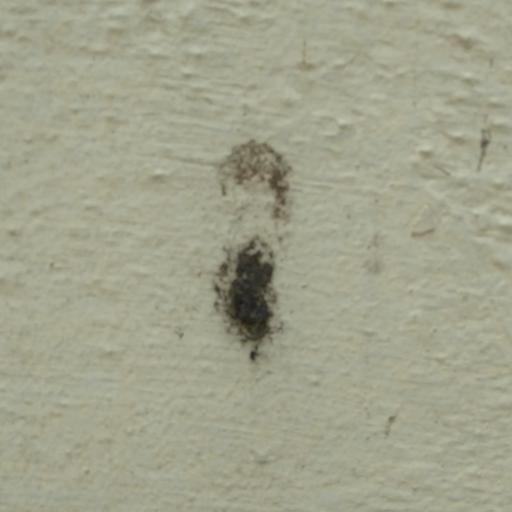stain: (190, 129, 309, 369), (469, 113, 512, 198), (283, 30, 334, 91), (370, 391, 409, 447)
